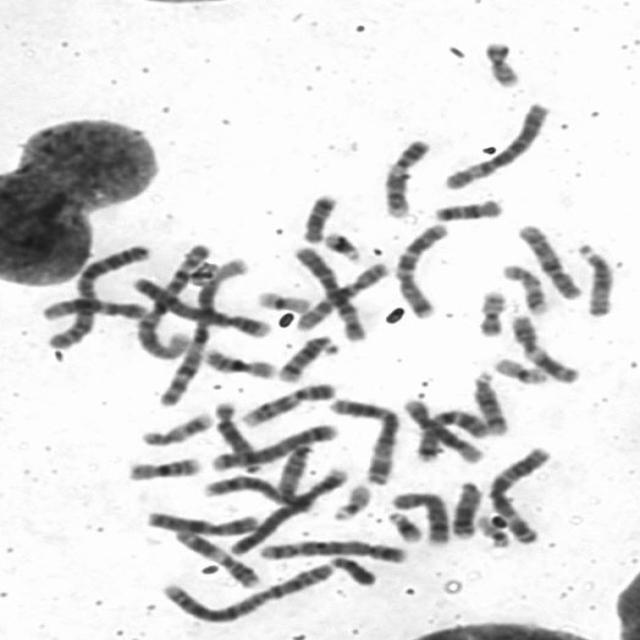A1: (150, 251, 250, 410), (130, 239, 218, 360)
A2: (42, 239, 155, 351), (155, 556, 338, 625)
A3: (482, 440, 556, 546), (324, 392, 403, 486)
B4: (221, 461, 352, 558), (127, 271, 274, 339)
B5: (204, 417, 342, 472), (253, 535, 412, 565)
C10: (293, 258, 395, 332), (512, 219, 585, 301)
C11: (168, 523, 262, 590), (504, 310, 584, 384)
C12: (400, 395, 488, 465), (34, 292, 150, 322)
C6: (438, 97, 554, 192), (289, 239, 372, 344)
C7: (390, 218, 453, 320), (410, 402, 491, 463)
C8: (198, 471, 316, 512), (386, 486, 454, 546)
C9: (238, 377, 340, 428), (378, 133, 433, 220)
D13: (210, 398, 265, 474), (447, 476, 486, 539)
D14: (275, 330, 342, 382), (468, 366, 513, 437)
D15: (572, 238, 616, 318), (272, 440, 316, 503)
E16: (199, 342, 280, 380), (121, 451, 204, 483)
E17: (136, 407, 216, 448), (496, 259, 552, 316)
E18: (297, 188, 341, 245), (430, 194, 507, 223)
F19: (491, 353, 553, 386), (251, 285, 314, 315)
F20: (479, 34, 526, 89), (472, 284, 509, 338)
G21: (381, 506, 426, 544), (319, 226, 365, 263)
G22: (326, 479, 375, 521), (471, 510, 513, 550)
X: (142, 506, 262, 536)
Y: (324, 552, 378, 587)
